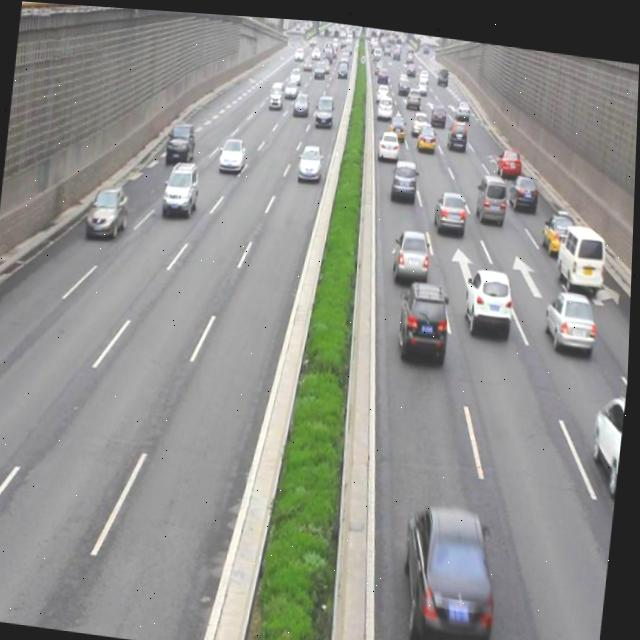car: (399, 492, 505, 640), (395, 270, 454, 359), (463, 257, 516, 333), (590, 378, 629, 479), (542, 279, 599, 346), (86, 180, 132, 240), (392, 219, 434, 281), (163, 154, 203, 215), (541, 200, 579, 251), (433, 180, 469, 231), (164, 115, 198, 163), (508, 162, 541, 209), (390, 150, 420, 196), (218, 131, 248, 172), (296, 136, 323, 178), (495, 137, 524, 176), (377, 121, 401, 157), (416, 115, 438, 146), (448, 113, 469, 145)
truck: (554, 211, 608, 282), (475, 164, 509, 219)
